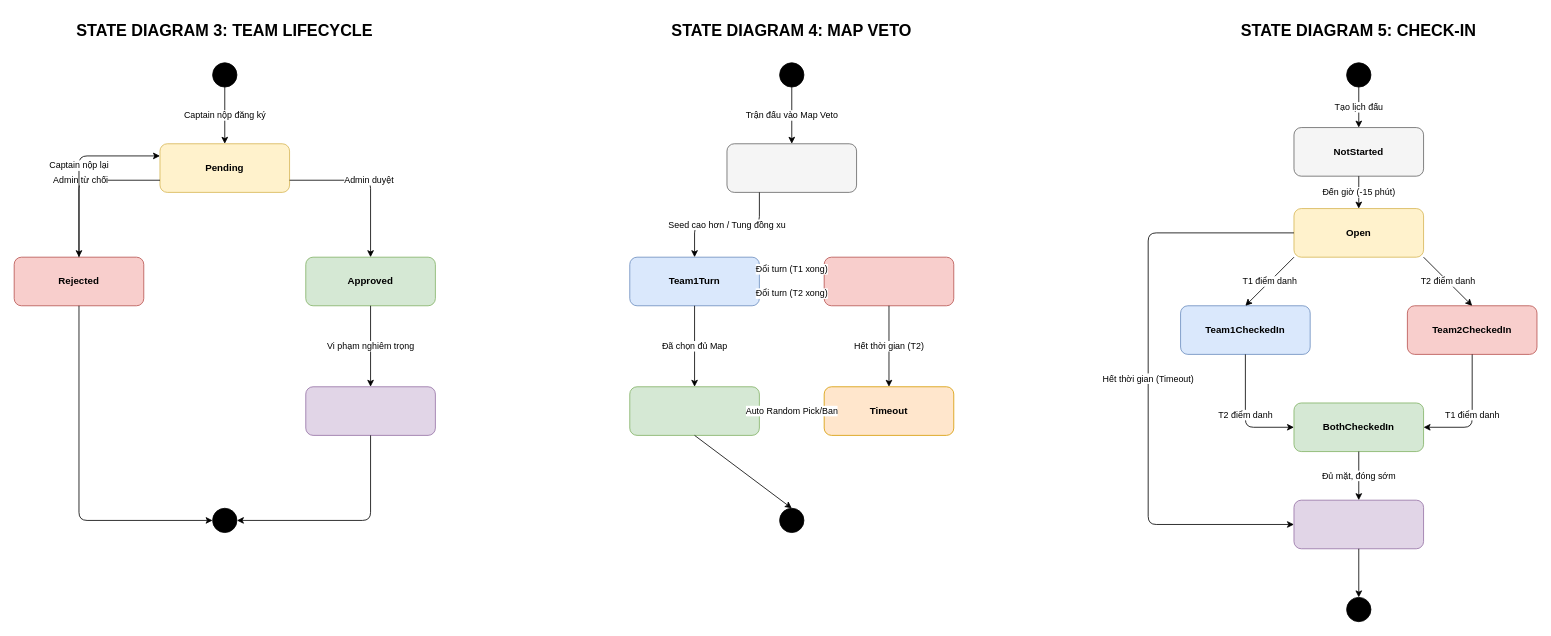
Image size: 1551x636. Some labels were removed from this diagram. The shapes that lost their labels are listed below. From the top down, each one's centre as x and y in pixels, then its label:
the point at 791,167: WaitingToStart
the point at 888,281: Team2Turn
the point at 370,410: Disqualified
the point at 694,410: Completed
the point at 1358,524: Closed
